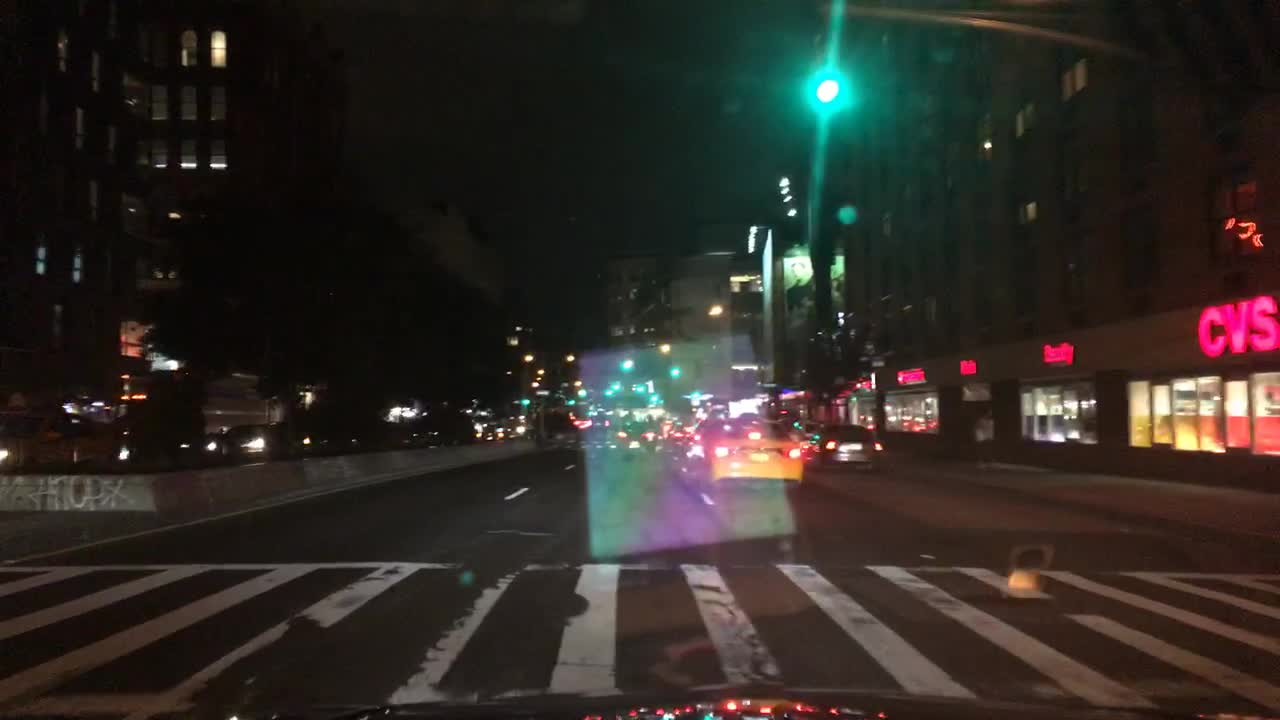car: (676, 399, 804, 494), (0, 392, 122, 476), (115, 418, 213, 464), (808, 422, 883, 471), (214, 421, 278, 460), (281, 420, 331, 457), (613, 413, 656, 452), (793, 418, 826, 465), (665, 414, 699, 450), (379, 422, 422, 450), (333, 424, 374, 450), (656, 411, 687, 439), (420, 424, 447, 446), (585, 410, 610, 433), (478, 424, 506, 441), (509, 417, 531, 437), (780, 408, 801, 428)
traffic light: (805, 70, 849, 109), (666, 362, 681, 376), (565, 394, 579, 408), (619, 356, 633, 369), (608, 378, 621, 392), (519, 395, 533, 405), (650, 394, 663, 403), (634, 380, 644, 391)
truck: (533, 391, 585, 450)
